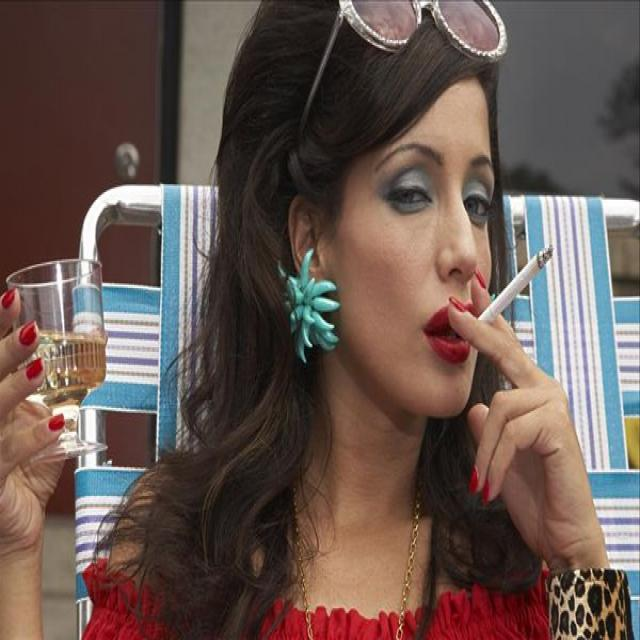smoking: (475, 246, 554, 330)
